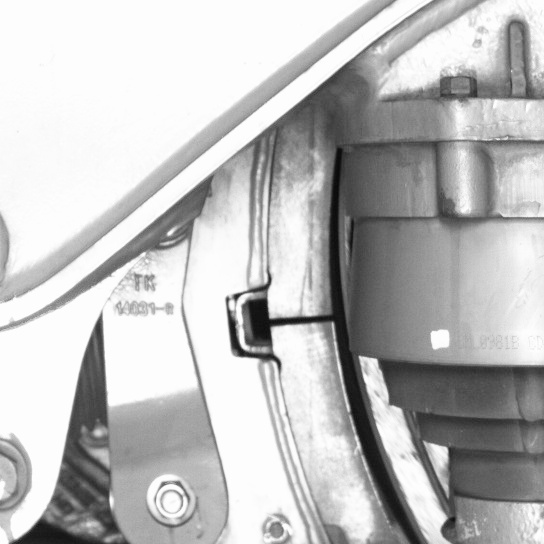KnifeSwitch: (265, 142, 431, 541)
